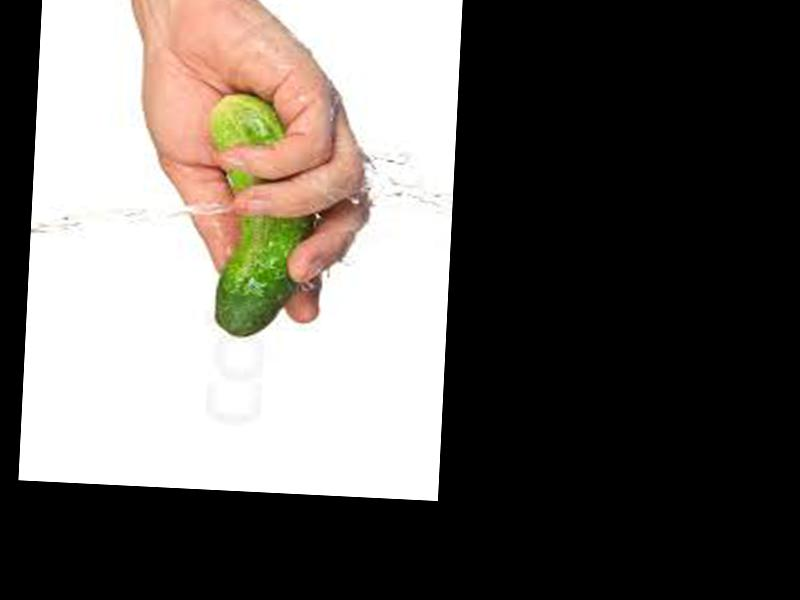Cucumber: (202, 94, 313, 341)
